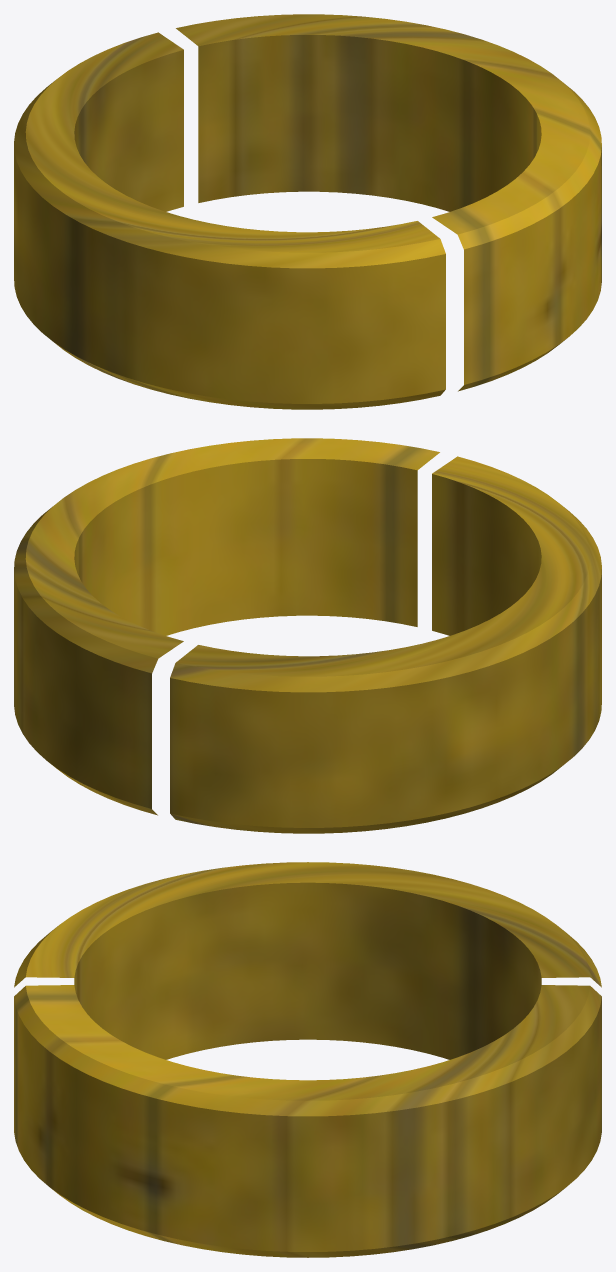
Rendered from SM_Anneaux_4po.glb.
3 views of the same model, one above another, from view 1: azimuth 30°, elevation 25°; view 2: azimuth 150°, elevation 25°; view 3: azimuth 270°, elevation 25° (orthographic).
Visible parts, largest first — view 1: Anneau_4po_B, Anneau_4po_A; view 2: Anneau_4po_B, Anneau_4po_A; view 3: Anneau_4po_A, Anneau_4po_B.
Boxes of the visible parts, x1,y1,x2,y2 form: Anneau_4po_B: (14, 32, 445, 409); Anneau_4po_A: (176, 14, 601, 391); Anneau_4po_B: (170, 456, 601, 833); Anneau_4po_A: (14, 438, 439, 815); Anneau_4po_A: (14, 985, 601, 1257); Anneau_4po_B: (14, 862, 601, 1059).
Bounding box in the file's own units: 0.075 × 0.0221 × 0.075.
1 material, 1 textured.
